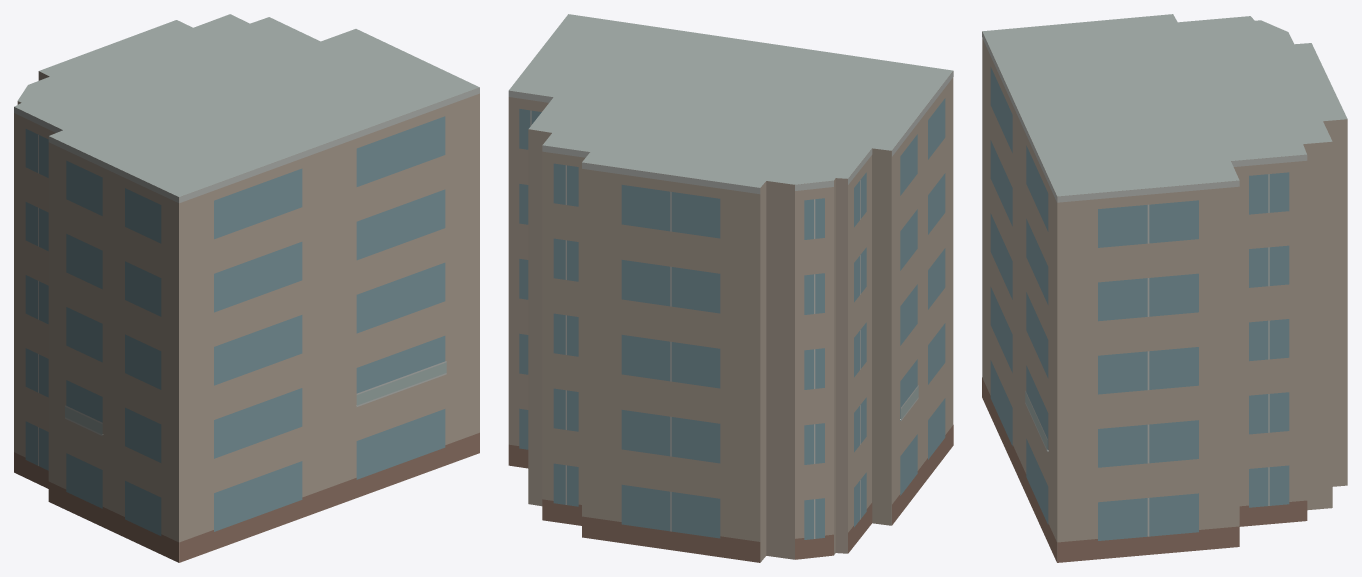
The model's file is survey-upis-32717203.glb.
The picture shows the model from 3 angles, left to right: view 1: azimuth 30°, elevation 25°; view 2: azimuth 150°, elevation 25°; view 3: azimuth 270°, elevation 25°; orthographic projection. The views are drawn at different scales.
Parts seen in each view (by area): view 1: survey-upis-32717203.tmp; view 2: survey-upis-32717203.tmp; view 3: survey-upis-32717203.tmp.
Boxes of the visible parts, bbox=[...] form: survey-upis-32717203.tmp: bbox=[14, 14, 479, 562]; survey-upis-32717203.tmp: bbox=[508, 14, 953, 562]; survey-upis-32717203.tmp: bbox=[982, 14, 1347, 562].
Bounding box in the file's own units: 15.39 × 14.4 × 13.03.
